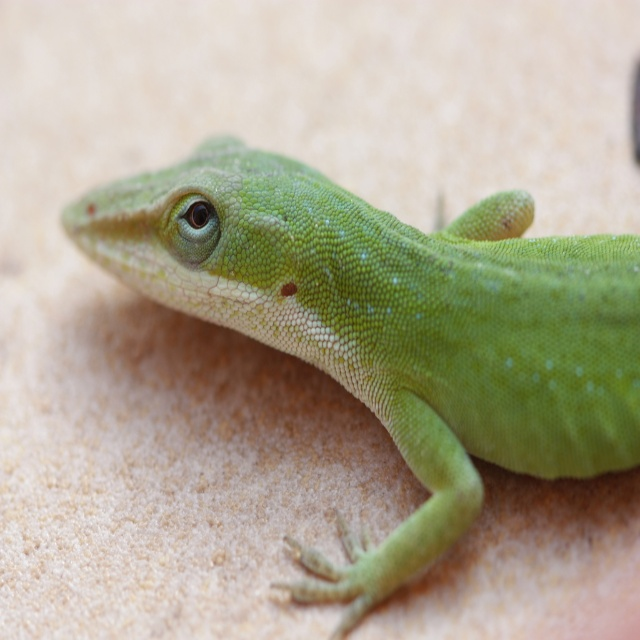Lizard: (61, 127, 640, 640)
